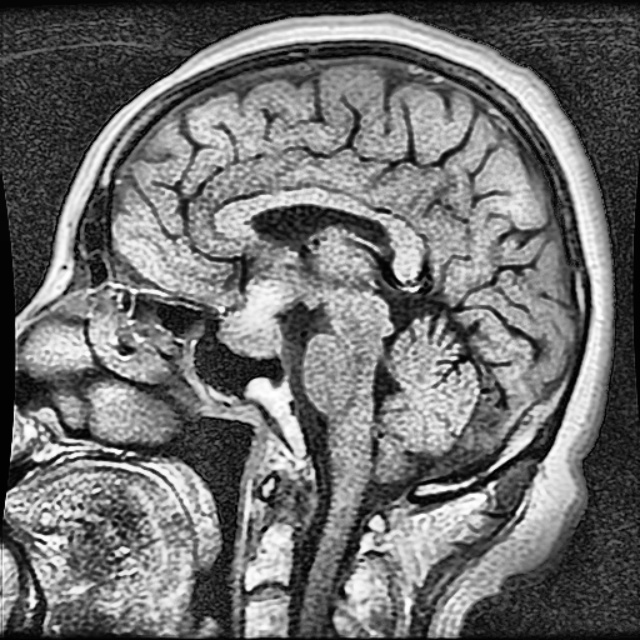Pituitary: (218, 277, 295, 360)
